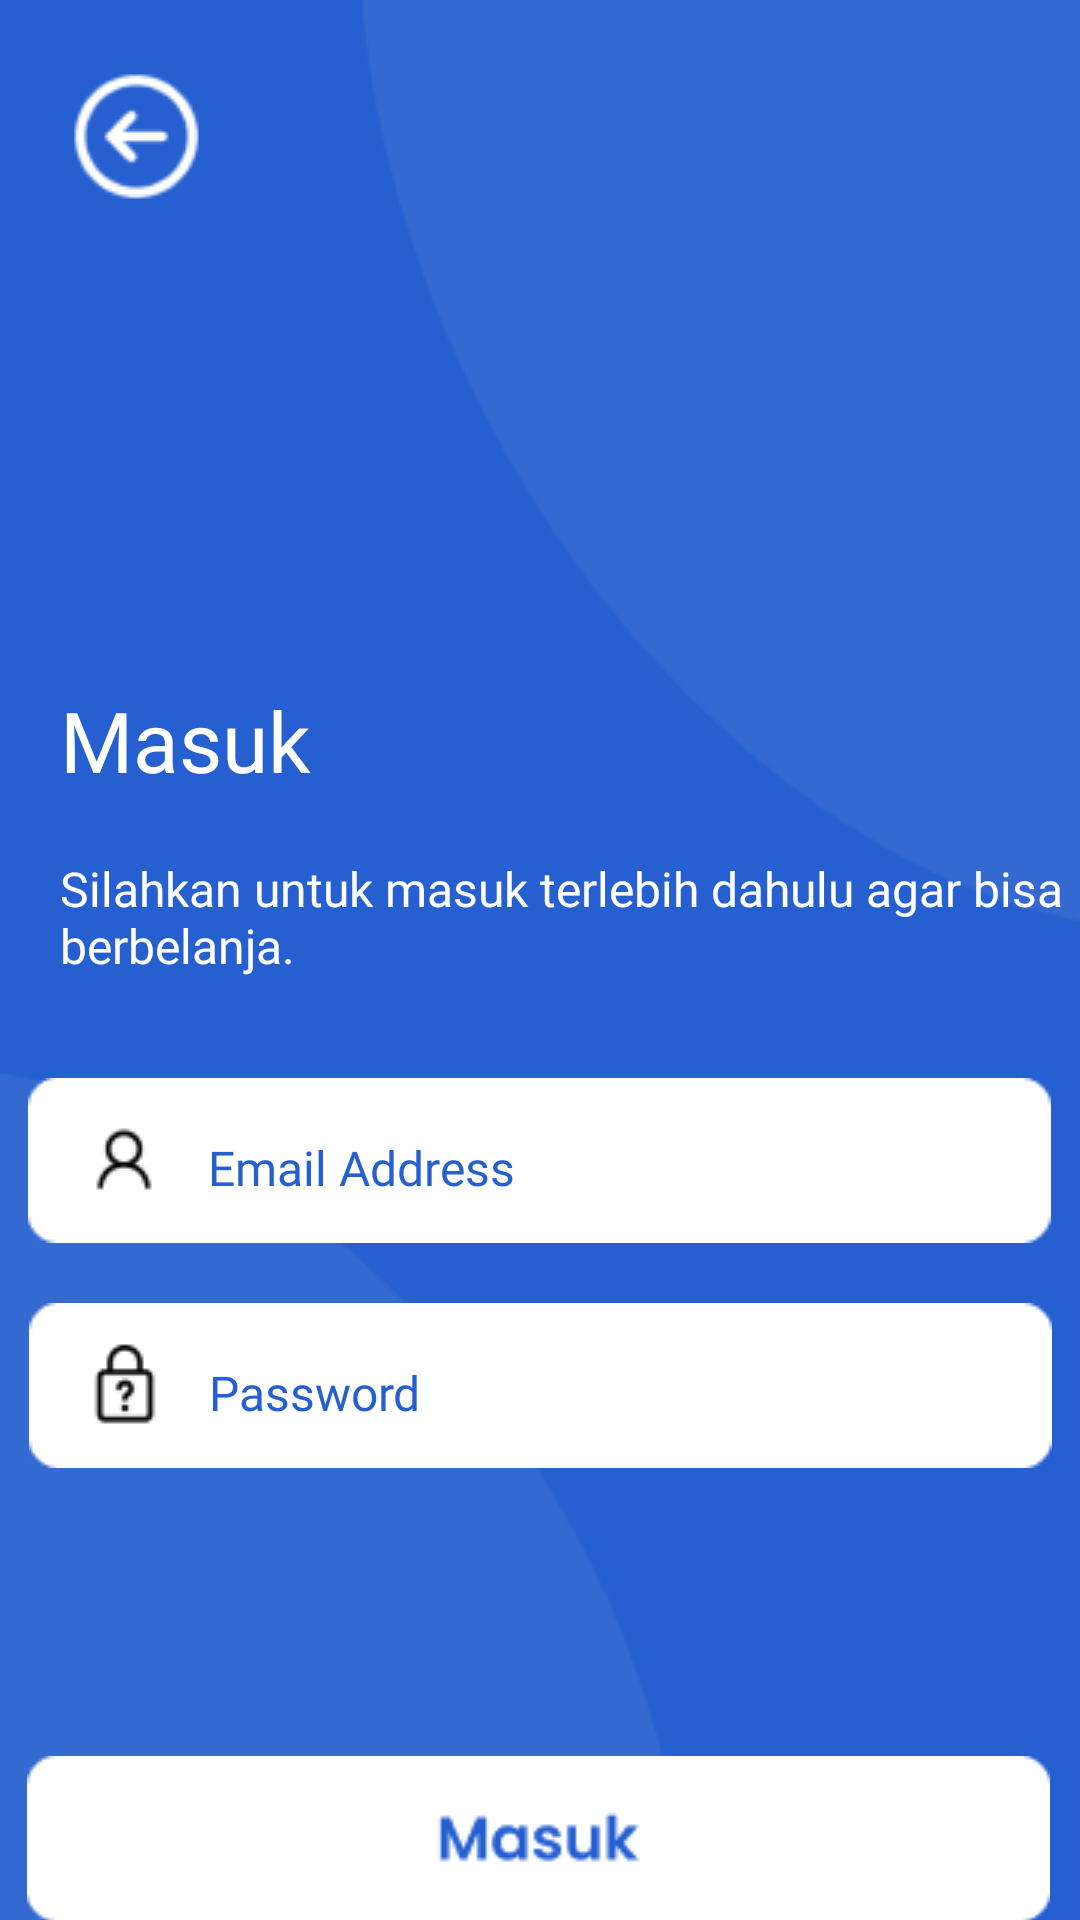

Named icons in this screenshot (1080×1920) and their bounding boxes, (x1, y1, x2, y2):
backbtn: (74, 74, 199, 199)
